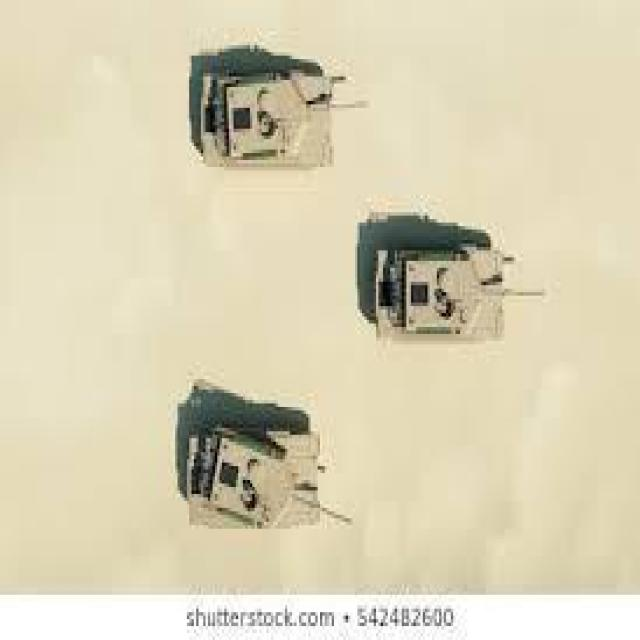Tanks: (160, 336, 333, 579), (178, 50, 358, 196), (366, 222, 540, 362)
